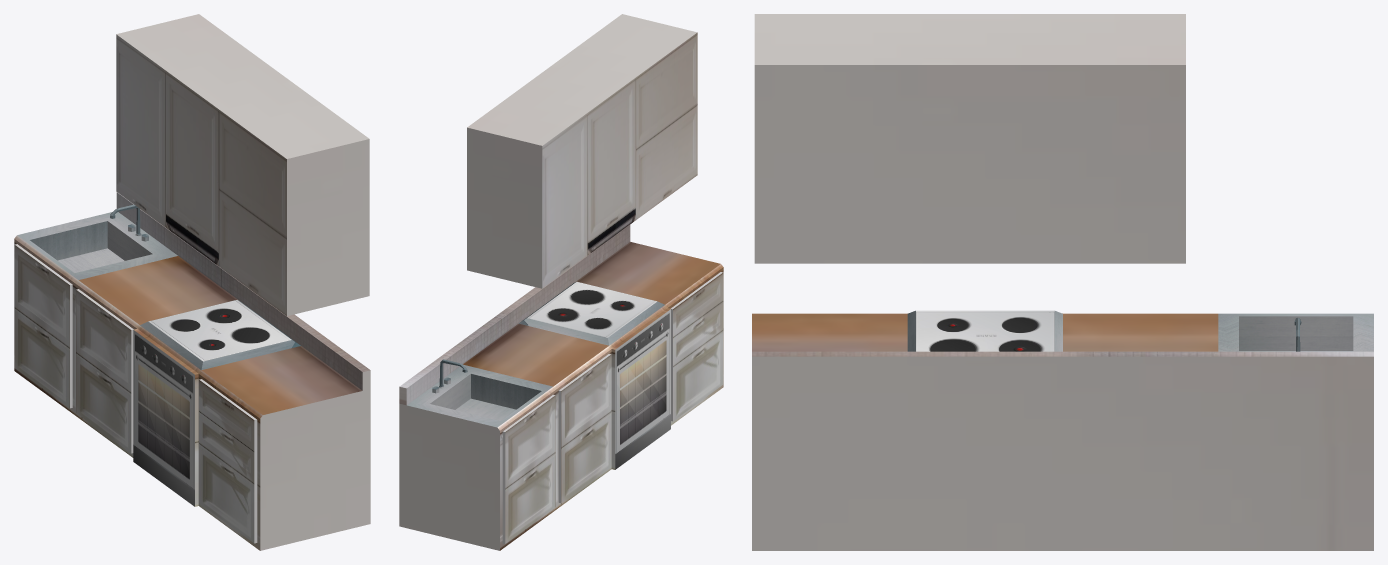
File: KITCHEN_01.fbx
3 views of the same model, side by side, from view 1: azimuth 30°, elevation 25°; view 2: azimuth 150°, elevation 25°; view 3: azimuth 270°, elevation 25° (orthographic). The views are drawn at different scales.
Visible parts, largest first — view 1: KITCHEN_01; view 2: KITCHEN_01; view 3: KITCHEN_01.
Boxes of the visible parts, x1,y1,x2,y2 form: KITCHEN_01: (14,14,370,550); KITCHEN_01: (399,14,723,550); KITCHEN_01: (752,14,1373,550).
Bounding box in the file's own units: 77.29 × 248 × 288.
